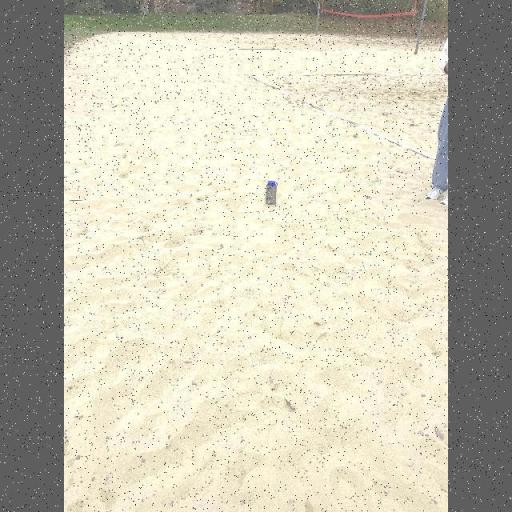bottle: (264, 181, 278, 207)
